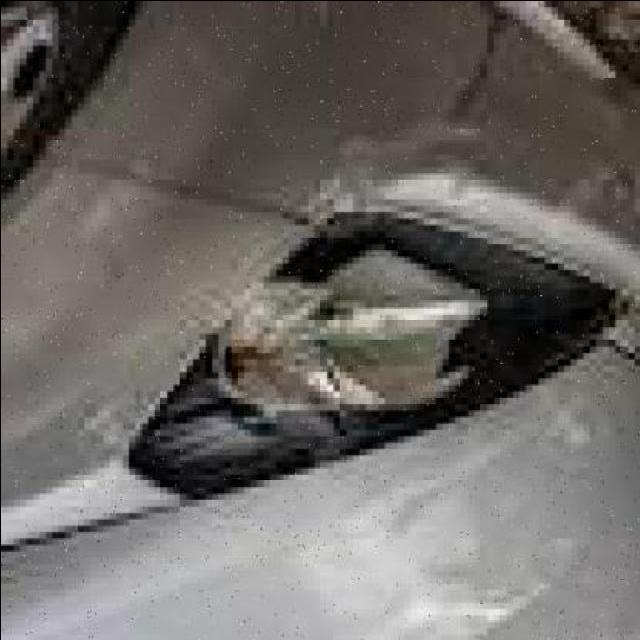Headlight-Damage: (109, 192, 640, 506)
